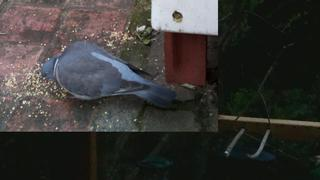wood pigeon: (40, 40, 178, 110)
